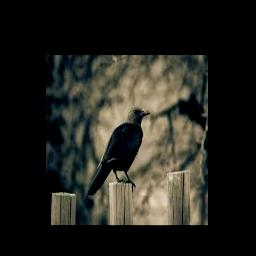Crow: (86, 106, 150, 195)
